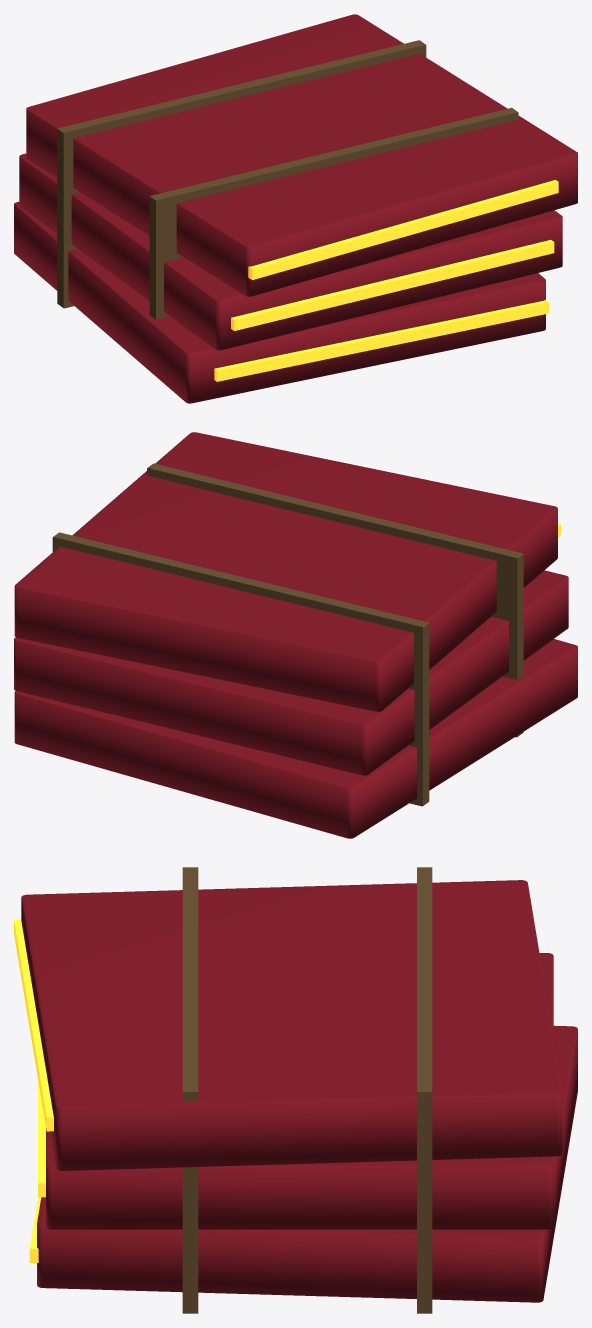
The model's file is stoff_splitter.glb.
3 renders of one model, top to bottom at view 1: azimuth 30°, elevation 25°; view 2: azimuth 150°, elevation 25°; view 3: azimuth 270°, elevation 25°, orthographic. The views are drawn at different scales.
Visible parts, largest first — view 1: Cube.004, Cube, Cube.002, Cube.007, Cube.006, Cube.001, Cube.003, Cube.005; view 2: Cube.004, Cube, Cube.002, Cube.007, Cube.006; view 3: Cube.004, Cube, Cube.002, Cube.007, Cube.006, Cube.005, Cube.003.
Part boxes in pixels (x1,y1,x2,y2): Cube.004: (26, 14, 577, 296); Cube: (14, 201, 545, 403); Cube.002: (19, 153, 562, 350); Cube.007: (57, 40, 426, 308); Cube.006: (149, 107, 518, 319); Cube.001: (214, 299, 548, 381); Cube.003: (231, 240, 554, 330); Cube.005: (248, 180, 558, 279); Cube.004: (14, 432, 557, 711); Cube: (14, 639, 577, 838); Cube.002: (14, 570, 568, 775); Cube.007: (52, 532, 429, 806); Cube.006: (147, 463, 523, 737); Cube.004: (21, 880, 562, 1170); Cube: (37, 1025, 577, 1302); Cube.002: (46, 953, 553, 1229); Cube.007: (417, 867, 432, 1313); Cube.006: (182, 867, 198, 1313); Cube.005: (14, 919, 53, 1131); Cube.003: (38, 1080, 45, 1197).
Size of the model in its own units: 0.2891 by 0.126 by 0.2889.
